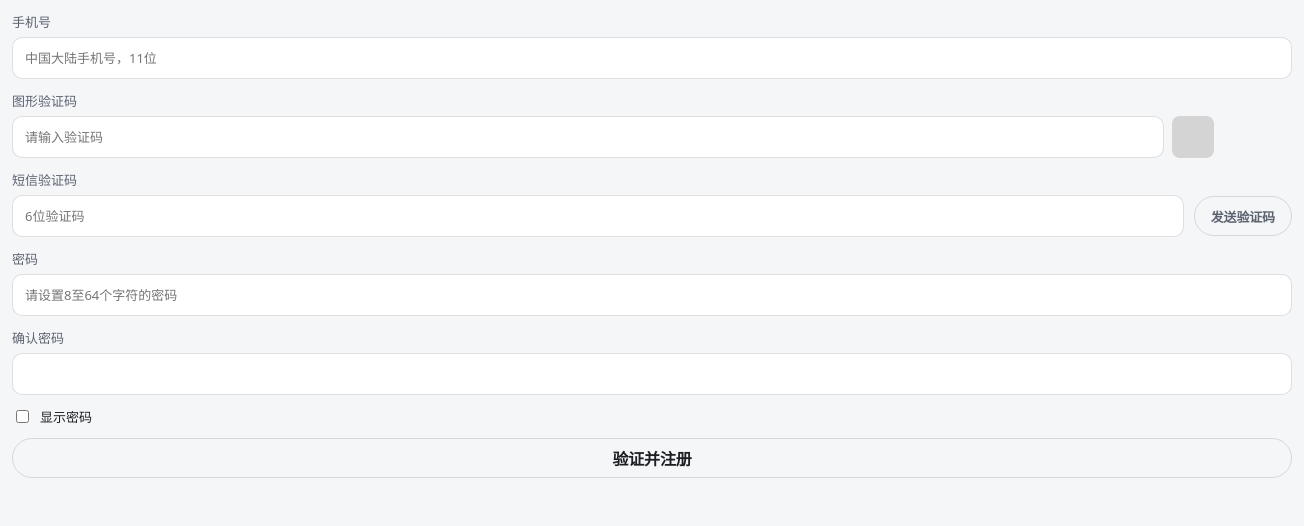
Test case: registration image verification flow › keeps image verification visible after a failed first send
Type "13800138000" into the field labelled "手机号" at (652, 58), box 12,37 -> 1292,79
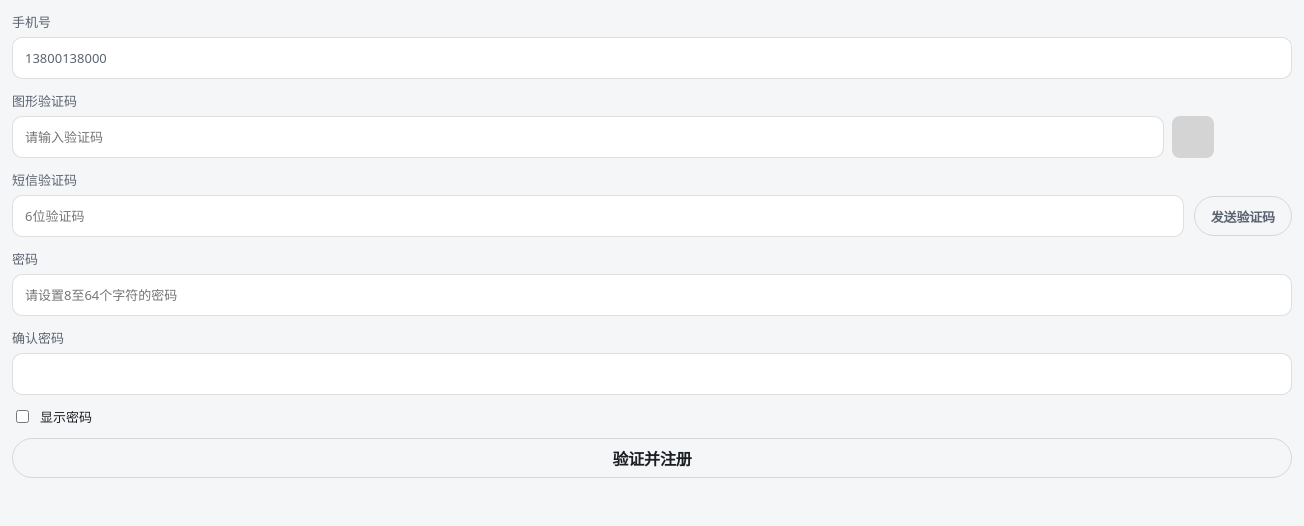
Type "ABCD" into the field named "captcha" at (588, 137), box 12,116 -> 1164,158
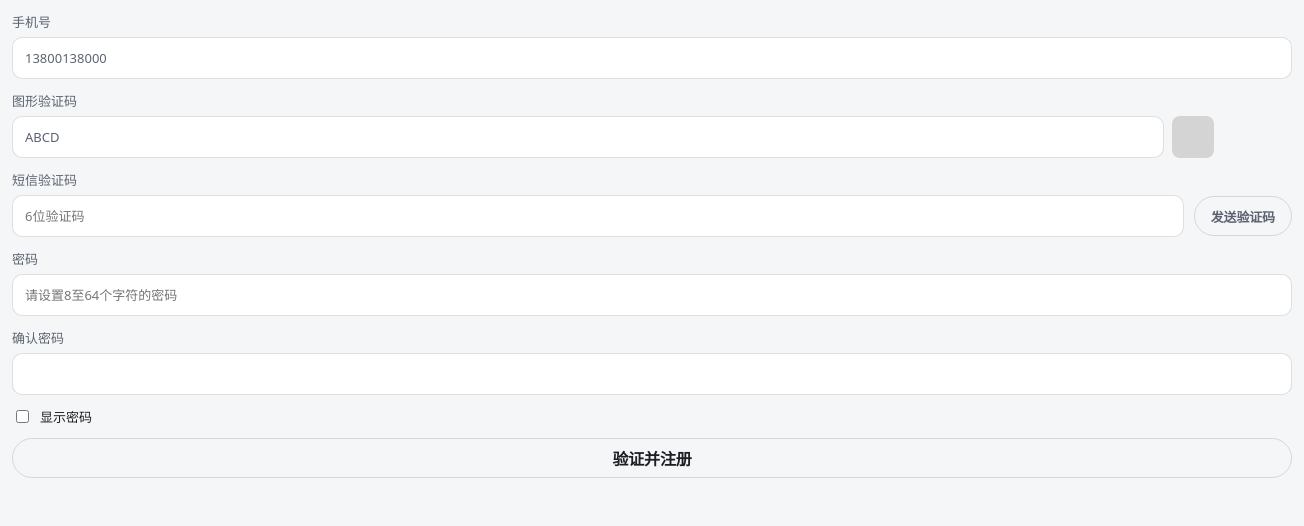
Click the button "发送验证码" at (1243, 216), box 1194,196 -> 1292,236
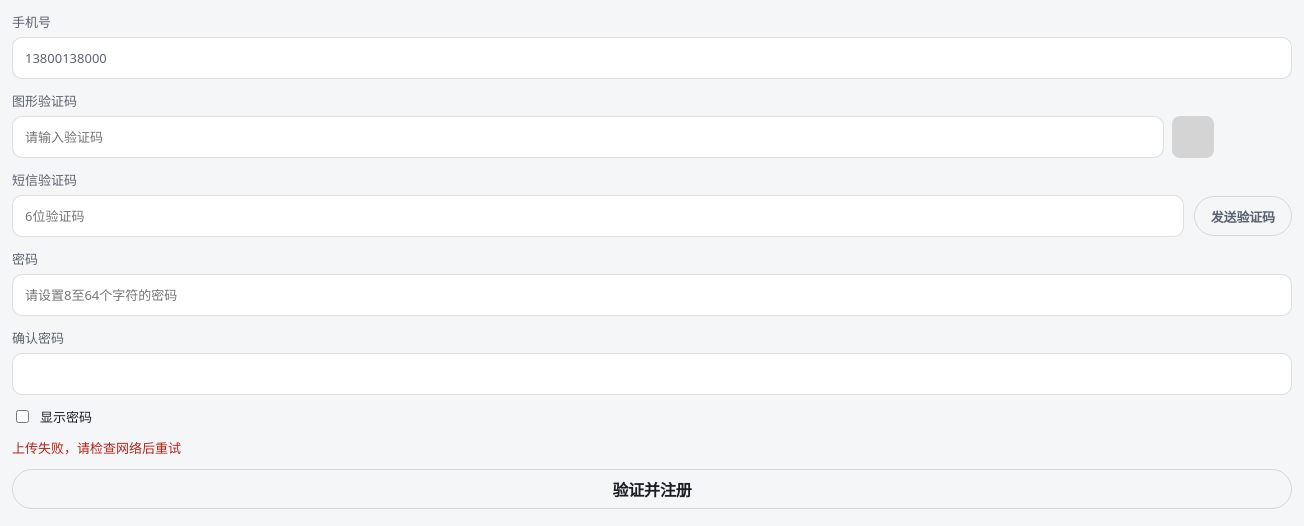
Now the field named "captcha" is empty, box 12,116 -> 1164,158
Now the message "上传失败，请检查网络后重试" is shown, box 12,439 -> 181,457
